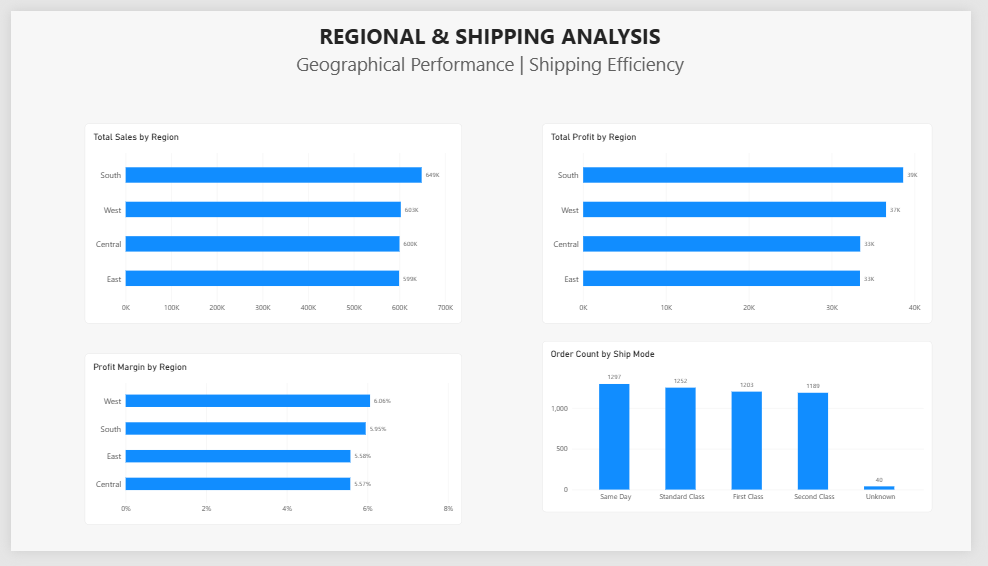

This screenshot's page, from the dashboard's own definition file:
{"tool":"powerbi","page":{"name":"Regional & Shipping Analysis.","canvas":[1920,1080],"ordinal":3},"visuals":[{"type":"textbox","title":"REGIONAL & SHIPPING ANALYSIS","box":[236,20,1446,112],"z":0},{"type":"clusteredBarChart","title":"Total Sales by Region","fields":{"Category":["SalesData.Region"],"Y":["SalesData.Total Sales"]},"box":[148,226,754,400],"z":1000},{"type":"clusteredBarChart","title":"Total Profit by Region","fields":{"Category":["SalesData.Region"],"Y":["Sum(SalesData.Profit)"]},"box":[1062,226,780,400],"z":2000},{"type":"clusteredBarChart","fields":{"Category":["SalesData.Region"],"Y":["SalesData.Profit Margin"]},"box":[148,686,754,342],"z":3000},{"type":"actionButton","box":[0,0,100,40],"z":4000},{"type":"clusteredColumnChart","title":"Order Count by Ship Mode","fields":{"Category":["SalesData.Ship_Mode"],"Y":["CountNonNull(SalesData.Order_ID)"]},"box":[1062,660,780,342],"z":5000}]}

Visuals, with their boxes in screenshot pixels (x1, y1, x2, y2), scaled from the page's 1920x1080 canvas onto the 988x566 screenshot:
"REGIONAL & SHIPPING ANALYSIS" textbox: box=[121, 10, 866, 69]
"Total Sales by Region" clusteredBarChart: box=[76, 118, 464, 328]
"Total Profit by Region" clusteredBarChart: box=[546, 118, 948, 328]
clusteredBarChart - SalesData.Region x SalesData.Profit Margin: box=[76, 360, 464, 539]
actionButton: box=[0, 0, 51, 21]
"Order Count by Ship Mode" clusteredColumnChart: box=[546, 346, 948, 525]
